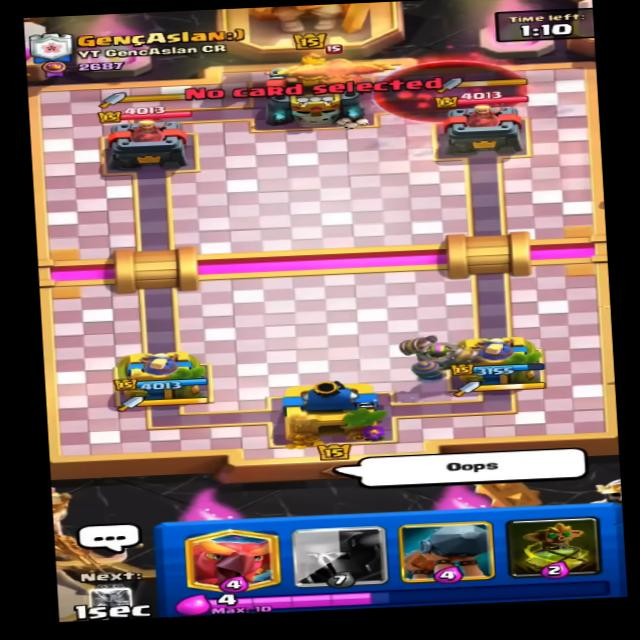phoenix: (264, 39, 395, 96)
